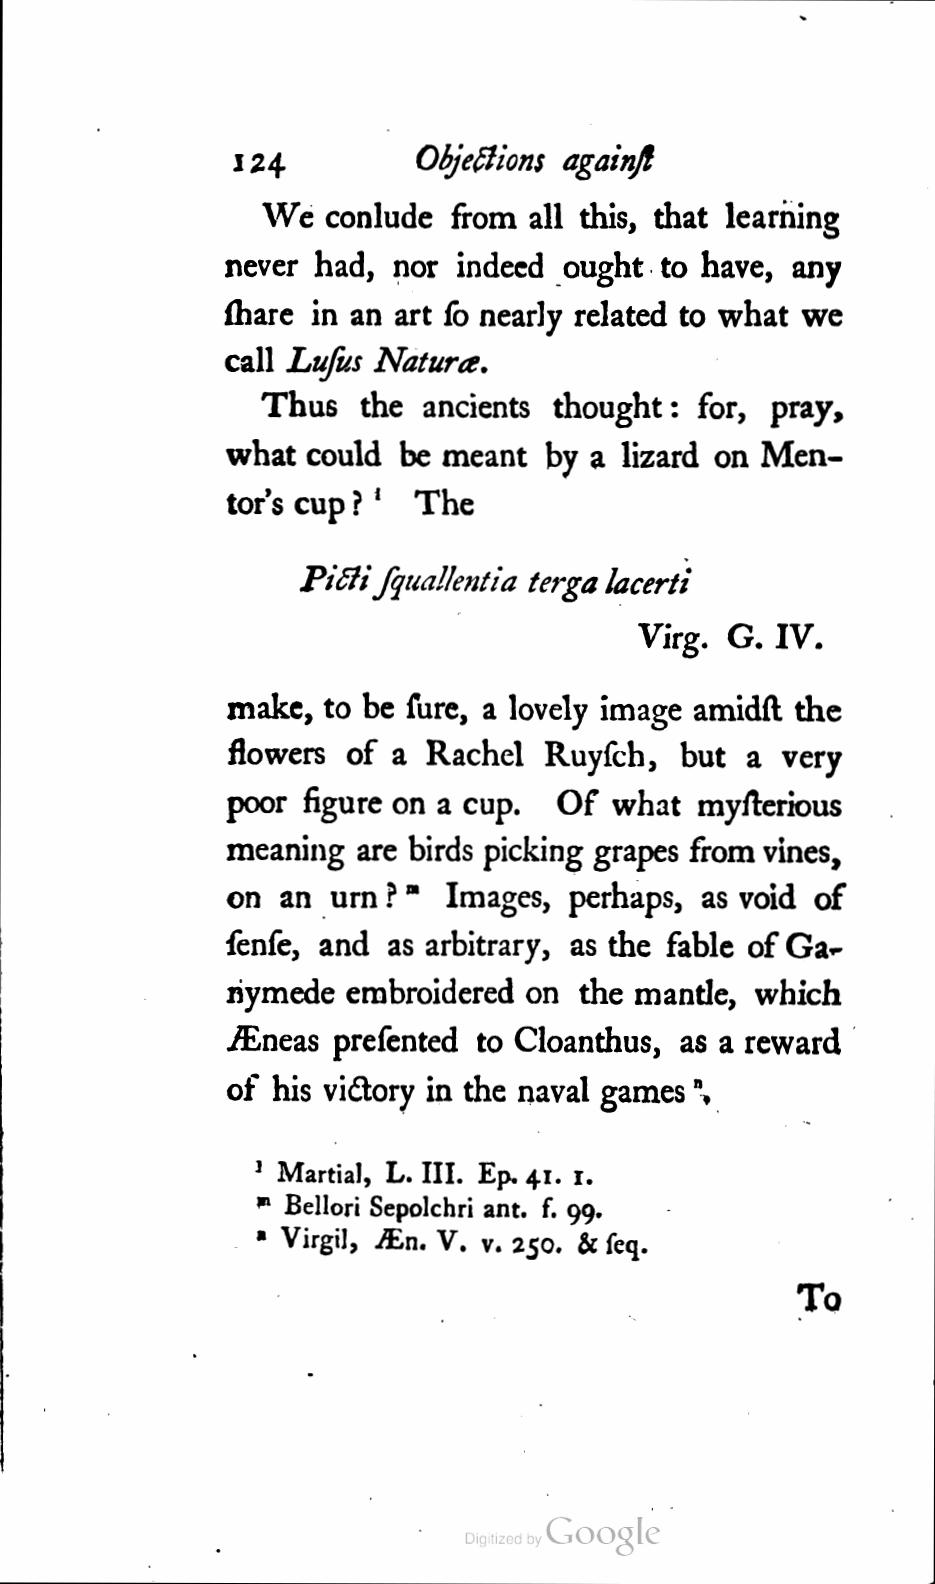bottom_p: (217, 686, 852, 1118)
catchword: (793, 1277, 847, 1319)
footnotes: (249, 1152, 654, 1269)
full_p: (216, 191, 846, 383)
header: (409, 136, 662, 187)
page_num: (227, 145, 292, 184)
top_p: (217, 385, 846, 529), (293, 557, 697, 606), (632, 616, 827, 662)
